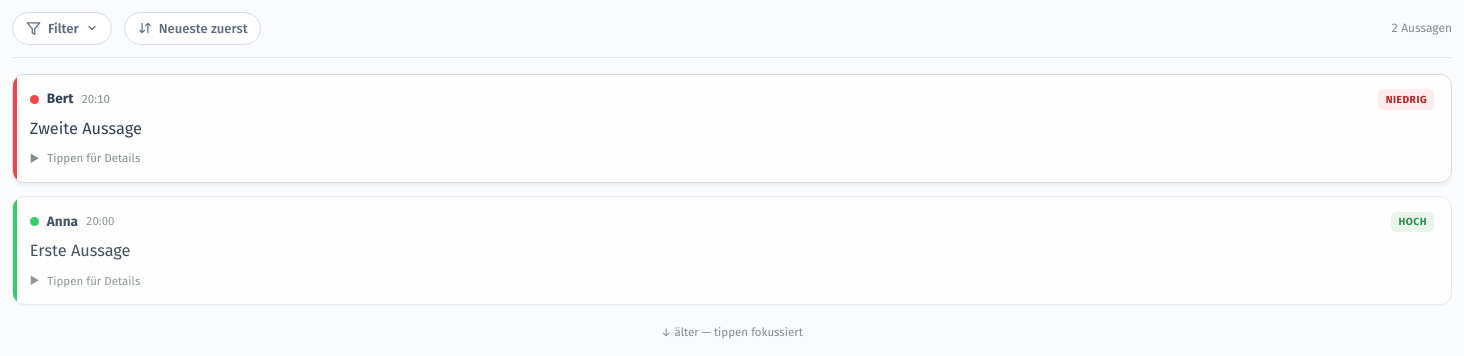
Test: FactCheckStream order toggle › shows newest first and flips to oldest first
Click the button "Neueste zuerst" at (193, 28), box [124,12,261,45]
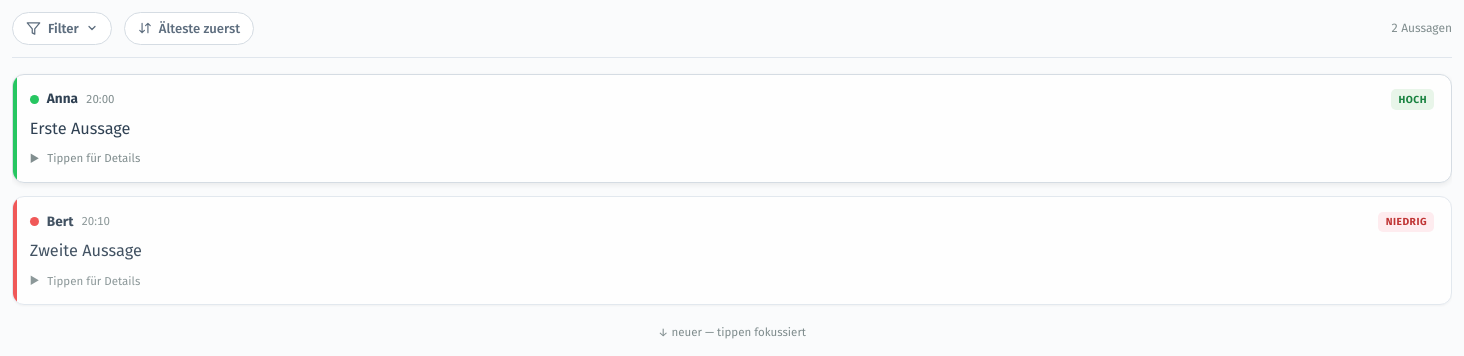
expect the button "Älteste zuerst" is shown: met, box [124,12,254,45]
